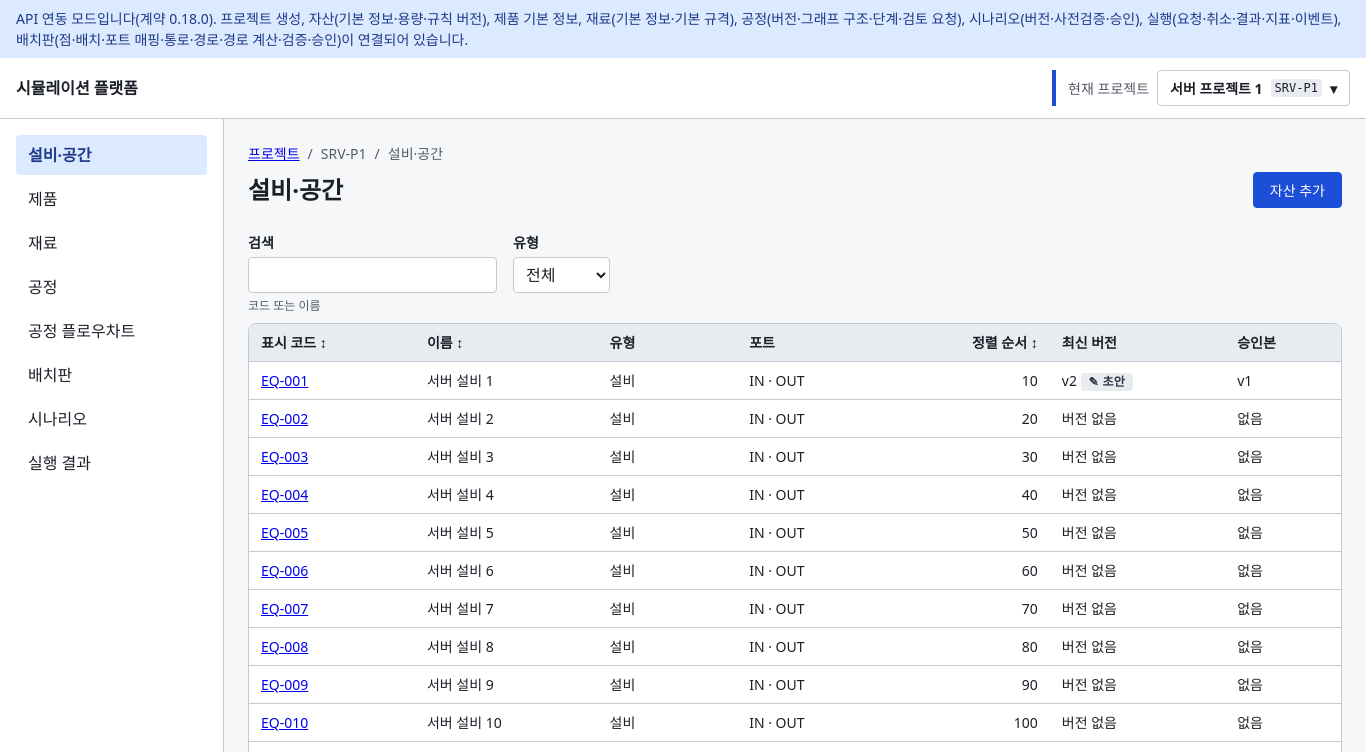
Test case: API 모드: 앱 셸과 프로젝트 › 전환하는 동안 이전 프로젝트의 목록을 새 프로젝트 화면에 남기지 않는다
Step 1. Click the button with aria-label "프로젝트 전환" → (1254, 88), box [1157,70,1350,106]
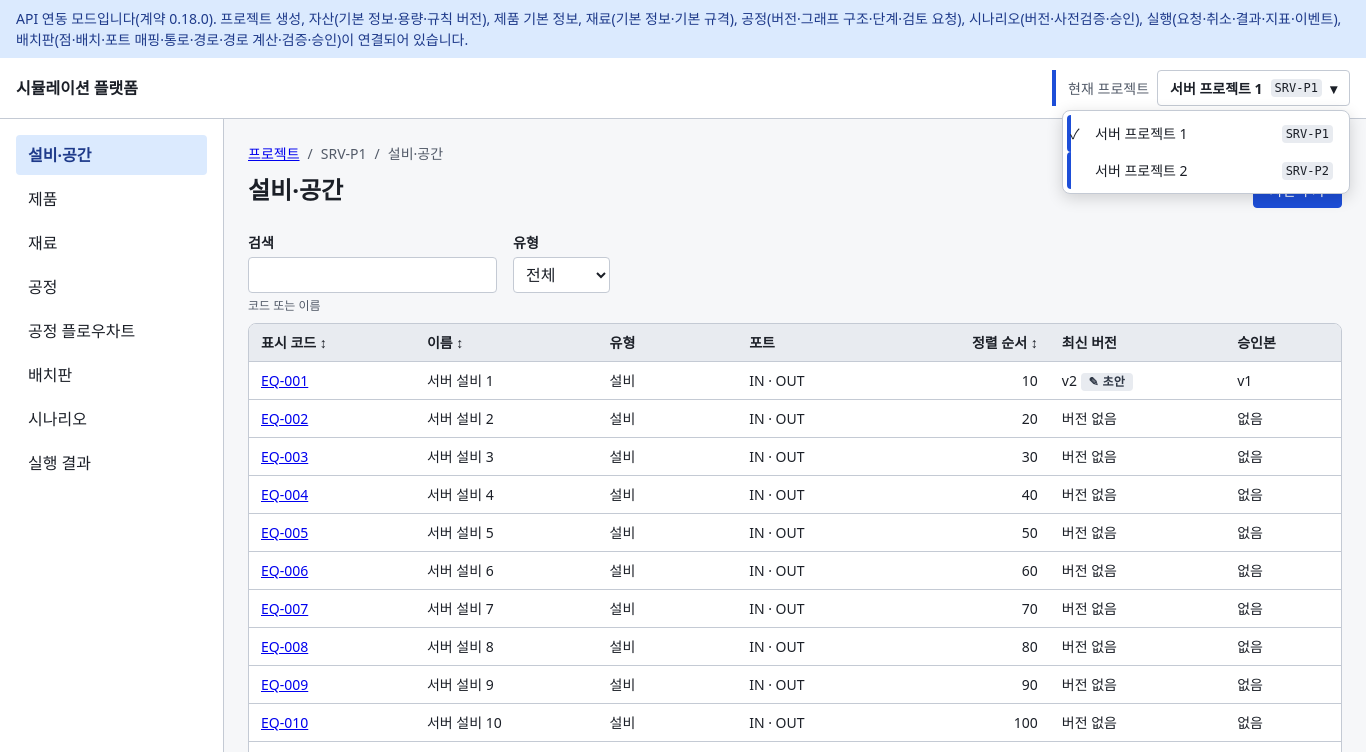
Step 2. Click the menu item "서버 프로젝트 2 SRV-P2" → (1206, 170), box [1067,152,1345,189]
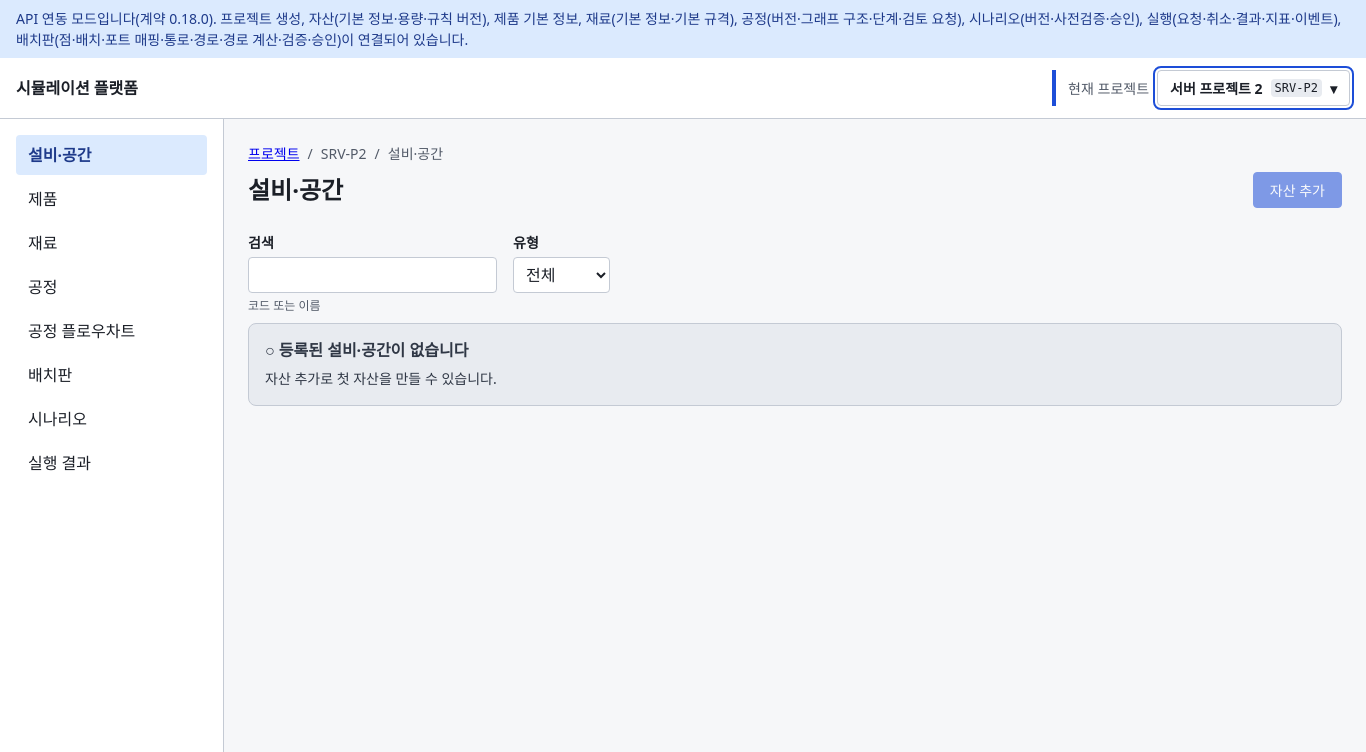
Expected: the table "설비·공간 목록" is not shown
Expected: the text "서버 설비 1" is gone
Expected: the heading "○ 등록된 설비·공간이 없습니다" is shown, [265,339,468,361]
